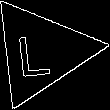L_N: (21, 25, 61, 79)
